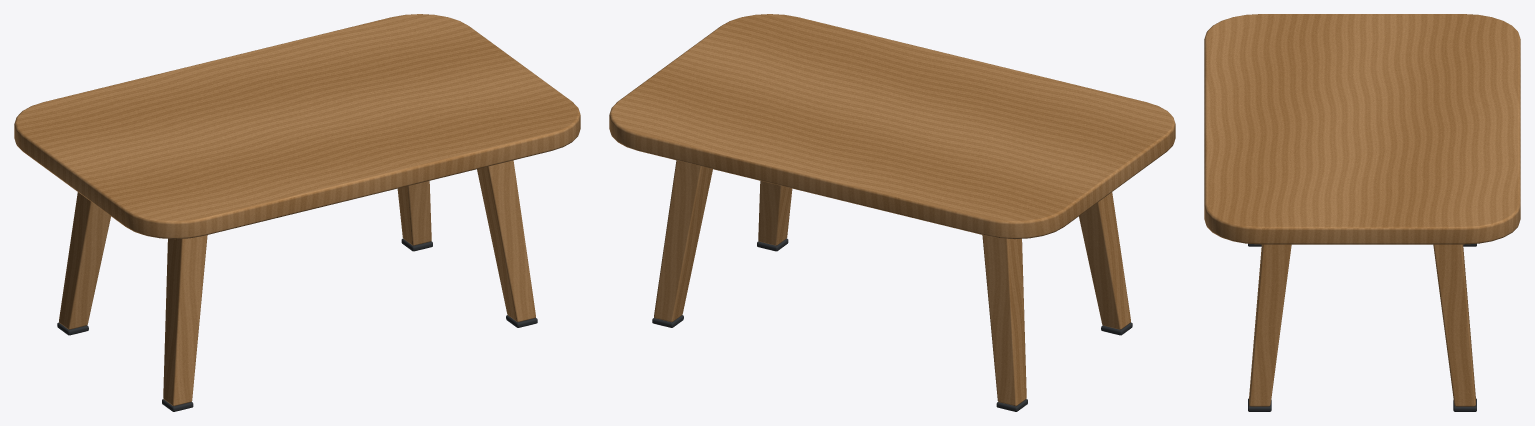
File: coffee_table.glb
3 views of the same model, side by side, from view 1: azimuth 30°, elevation 25°; view 2: azimuth 150°, elevation 25°; view 3: azimuth 270°, elevation 25° (orthographic).
Parts seen in each view (by area): view 1: SM_coffee_table; view 2: SM_coffee_table; view 3: SM_coffee_table.
Part boxes in pixels (x1,y1,x2,y2): SM_coffee_table: (14,14,580,411); SM_coffee_table: (609,14,1175,411); SM_coffee_table: (1204,14,1520,411).
Size of the model in its own units: 0.9 by 0.4 by 0.56.
Materials: 2 (1 with a texture image).
